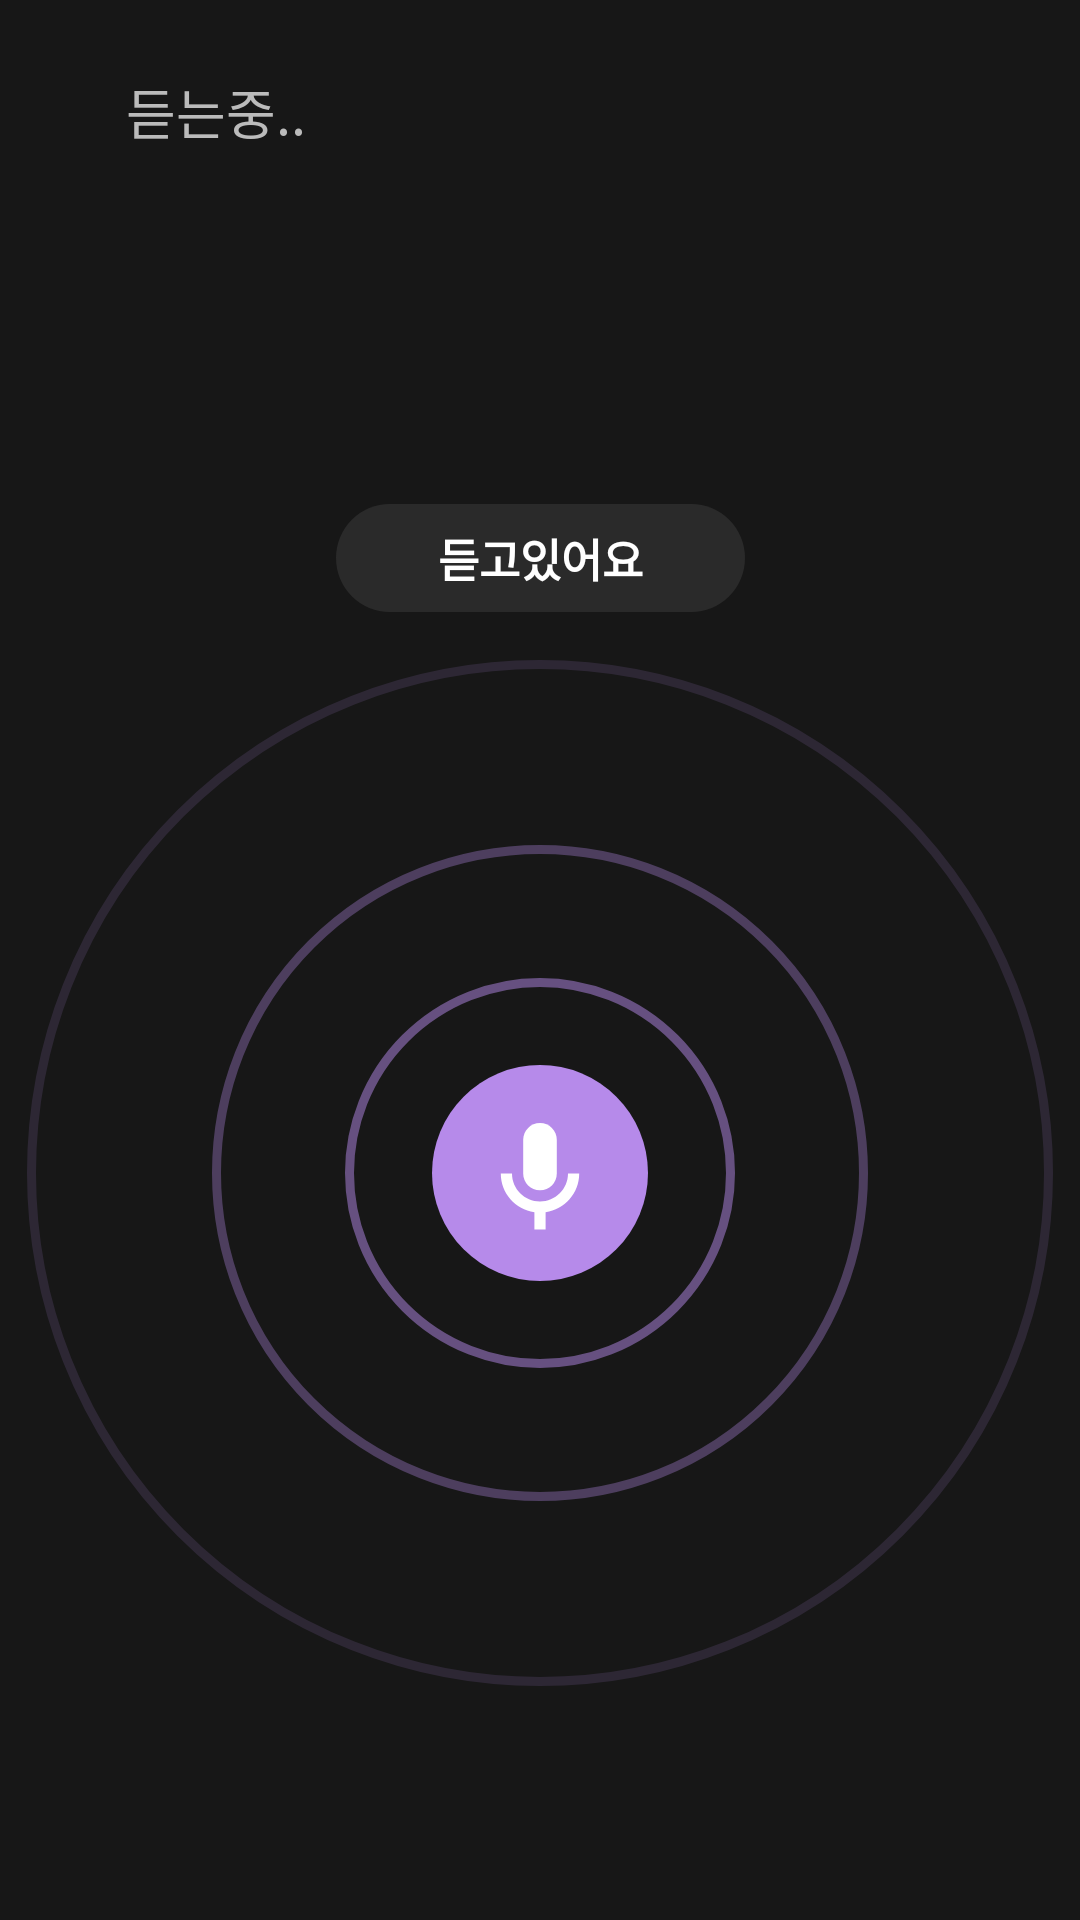

Icon click points for this 1080×1920 phone screenshot, format [x,y]:
general mic: [540,1173]
